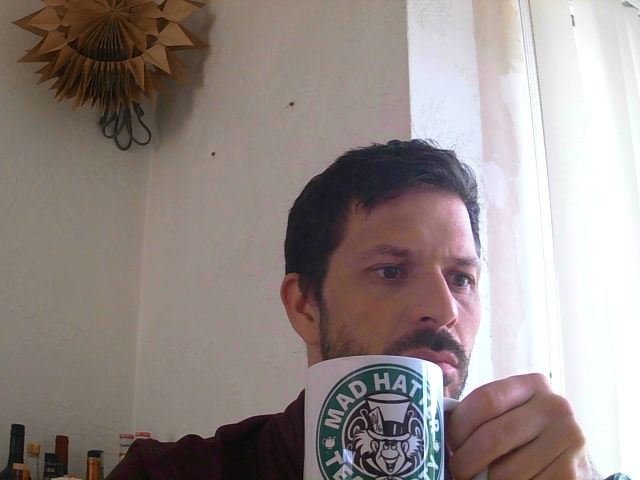mug: (300, 355, 445, 480)
